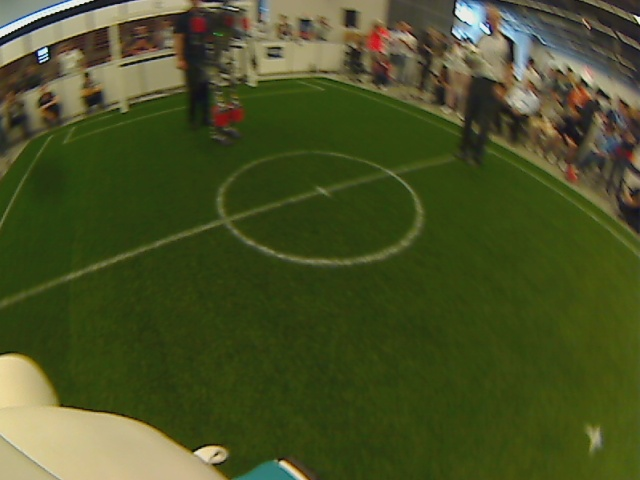goalpost: (106, 96, 137, 126), (237, 66, 266, 93)
robot: (206, 112, 253, 153)
